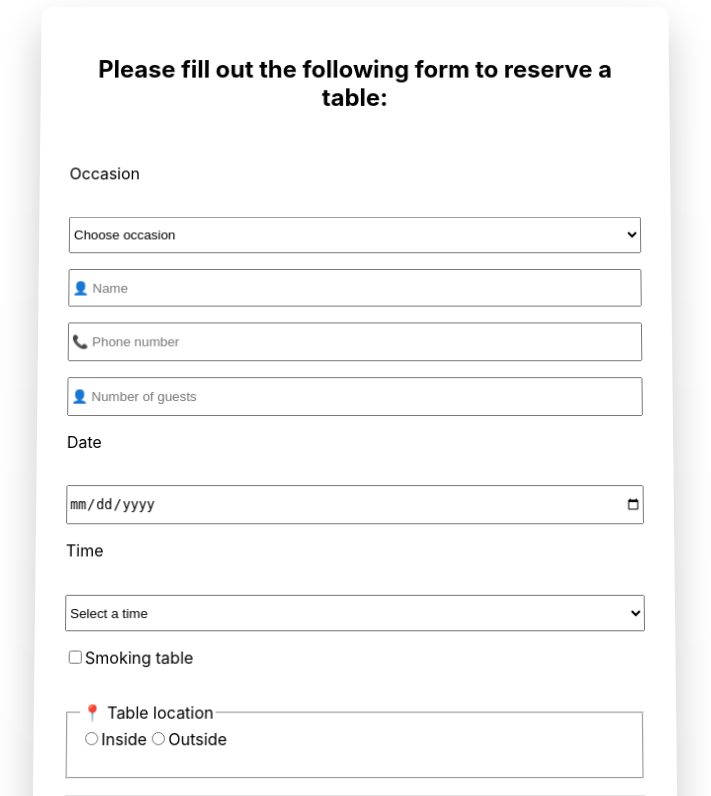
Scenario: form becomes valid when all inputs are correct
Select "🎂 Birthday" in the dropdown labelled "Occasion": [355, 235] box top-left (69, 217), bottom-right (641, 253)
In the field with placeholder "👤 Name": [355, 288] box top-left (68, 269), bottom-right (642, 307), type "Ahmed"
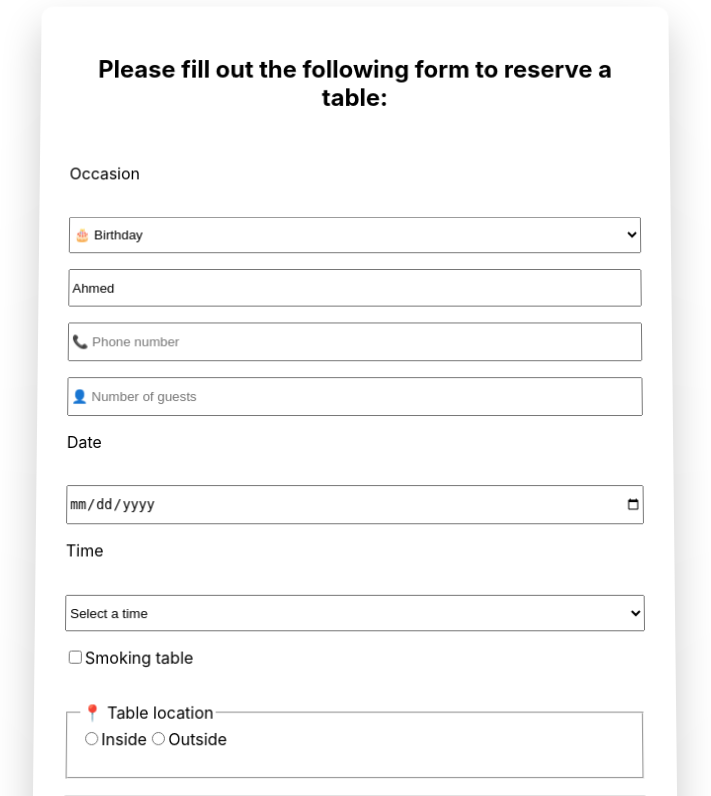
In the field with placeholder "📞 Phone number": [355, 342] box top-left (68, 323), bottom-right (642, 361), type "12345"
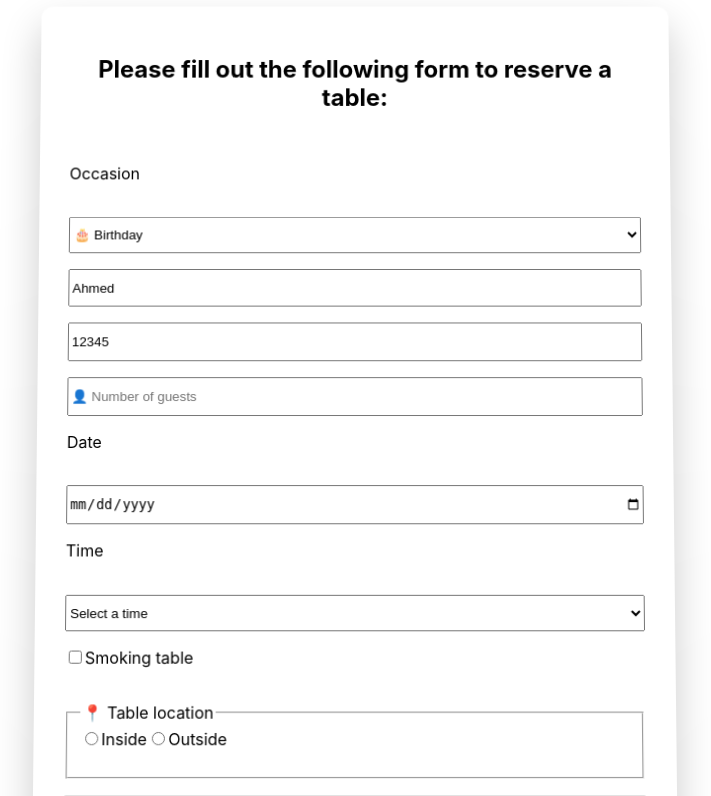
In the number field with placeholder "👤 Number of guests": [355, 396] box top-left (67, 377), bottom-right (643, 416), type "2"
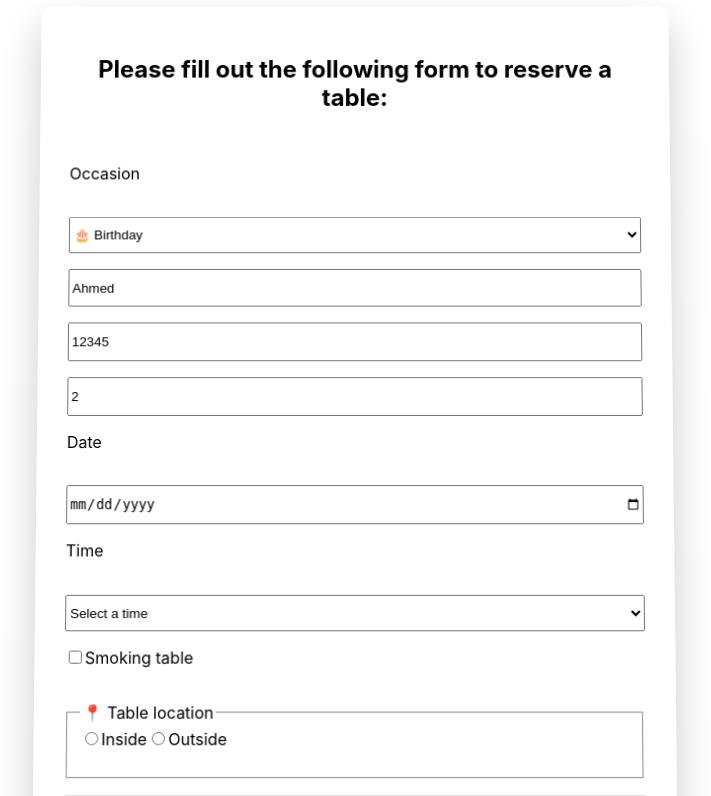
In the date field labelled "Date": [355, 505] box top-left (66, 485), bottom-right (644, 524), type "2026-01-30"
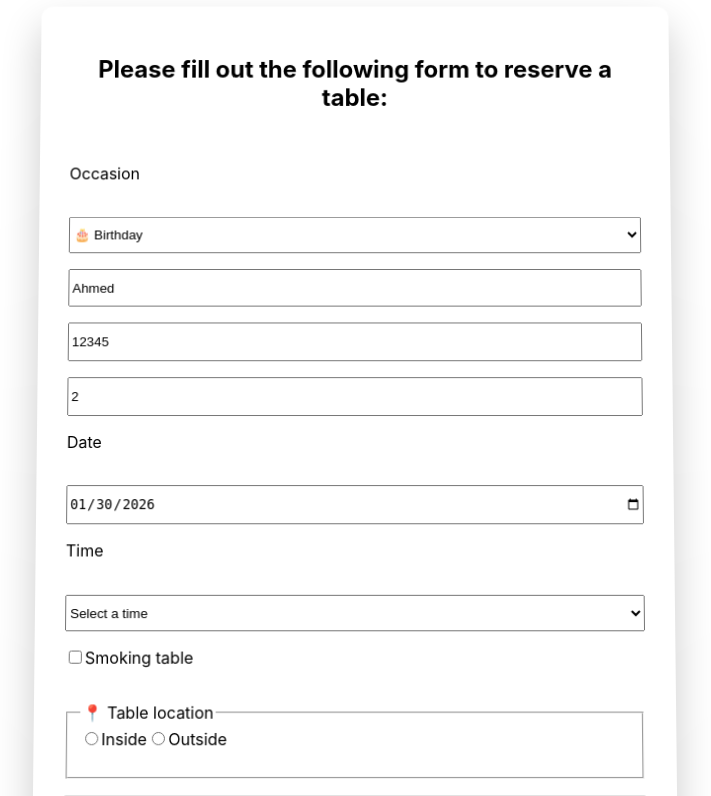
Select "17:00" in the dropdown labelled "Time": [355, 613] box top-left (65, 595), bottom-right (645, 632)
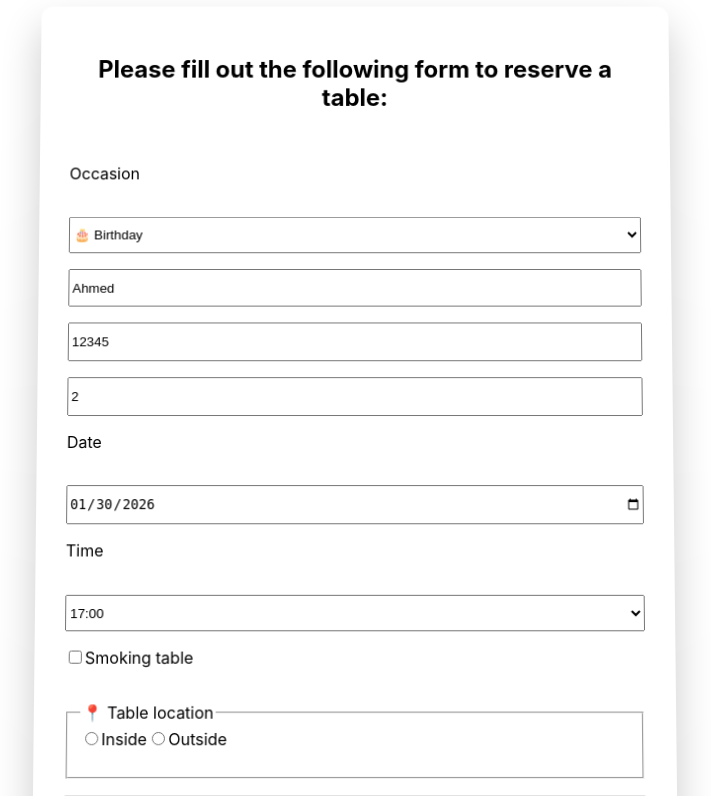
Click the radio button labelled "Inside": [92, 738] box top-left (85, 732), bottom-right (98, 745)
(page scrolled)
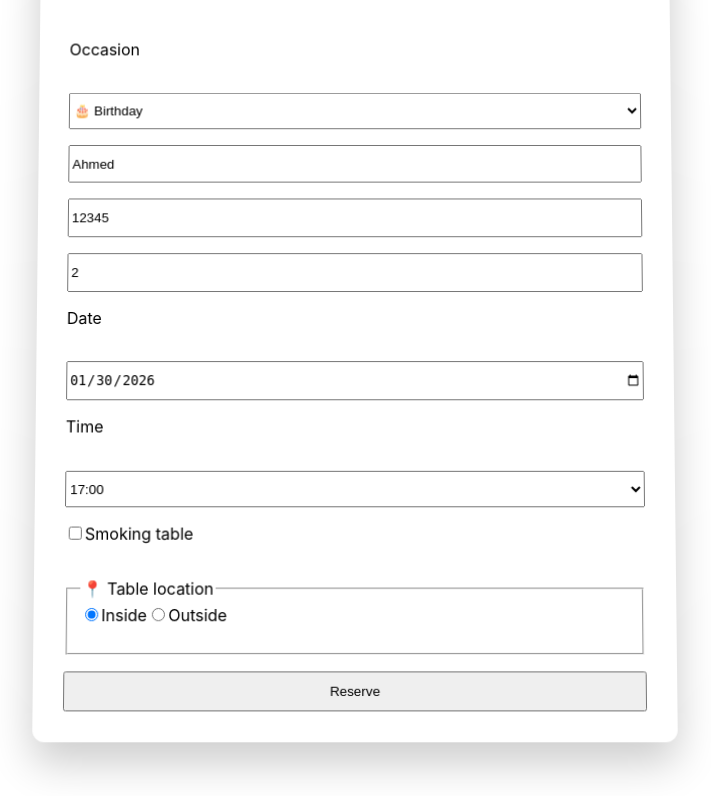
Check: the button "Reserve" is enabled, box top-left (63, 672), bottom-right (647, 712)
